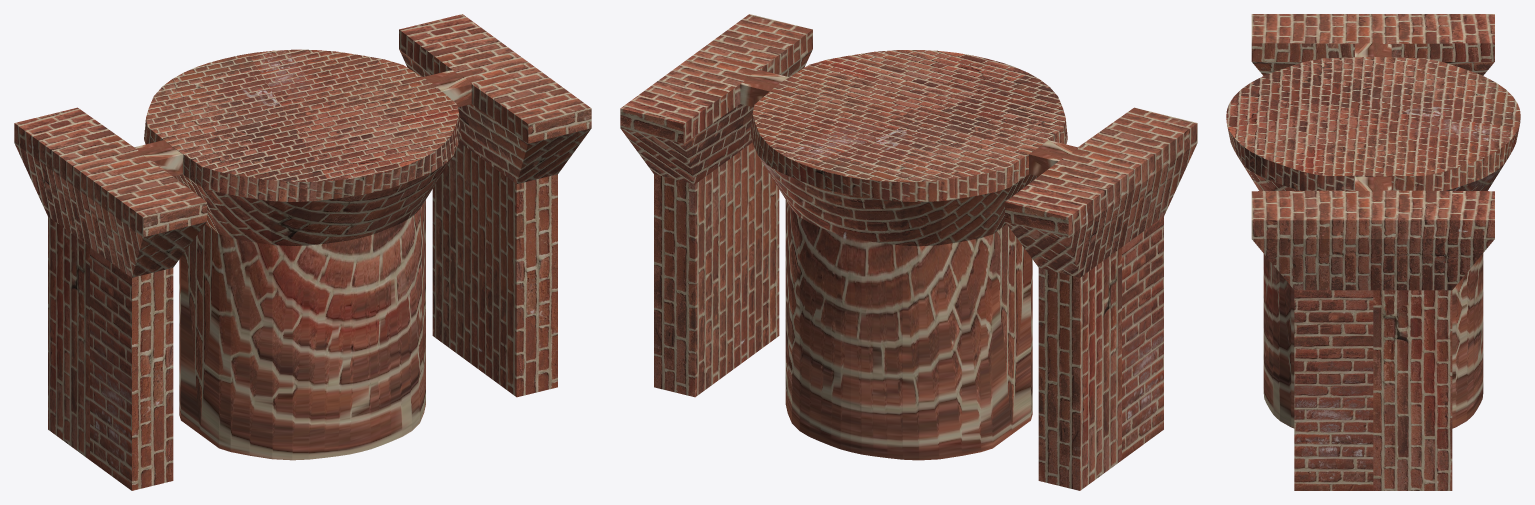
File: underground_arena.glb
The picture shows the model from 3 angles, left to right: view 1: azimuth 30°, elevation 25°; view 2: azimuth 150°, elevation 25°; view 3: azimuth 270°, elevation 25°; orthographic projection. The views are drawn at different scales.
Parts seen in each view (by area): view 1: Pillar, LeftStage, RightStage; view 2: Pillar, LeftStage, RightStage; view 3: RightStage, Pillar, LeftStage.
Boxes of the visible parts, <box> form: Pillar: <box>144,49,461,460</box>; LeftStage: <box>14,107,206,490</box>; RightStage: <box>399,14,591,397</box>; Pillar: <box>750,50,1067,460</box>; LeftStage: <box>1005,107,1197,490</box>; RightStage: <box>620,14,812,397</box>; RightStage: <box>1251,176,1494,490</box>; Pillar: <box>1226,56,1520,428</box>; LeftStage: <box>1251,14,1494,75</box>.
Size of the model in its own units: 47.4 by 29.72 by 28.63.
Materials: 2 (2 with a texture image).
